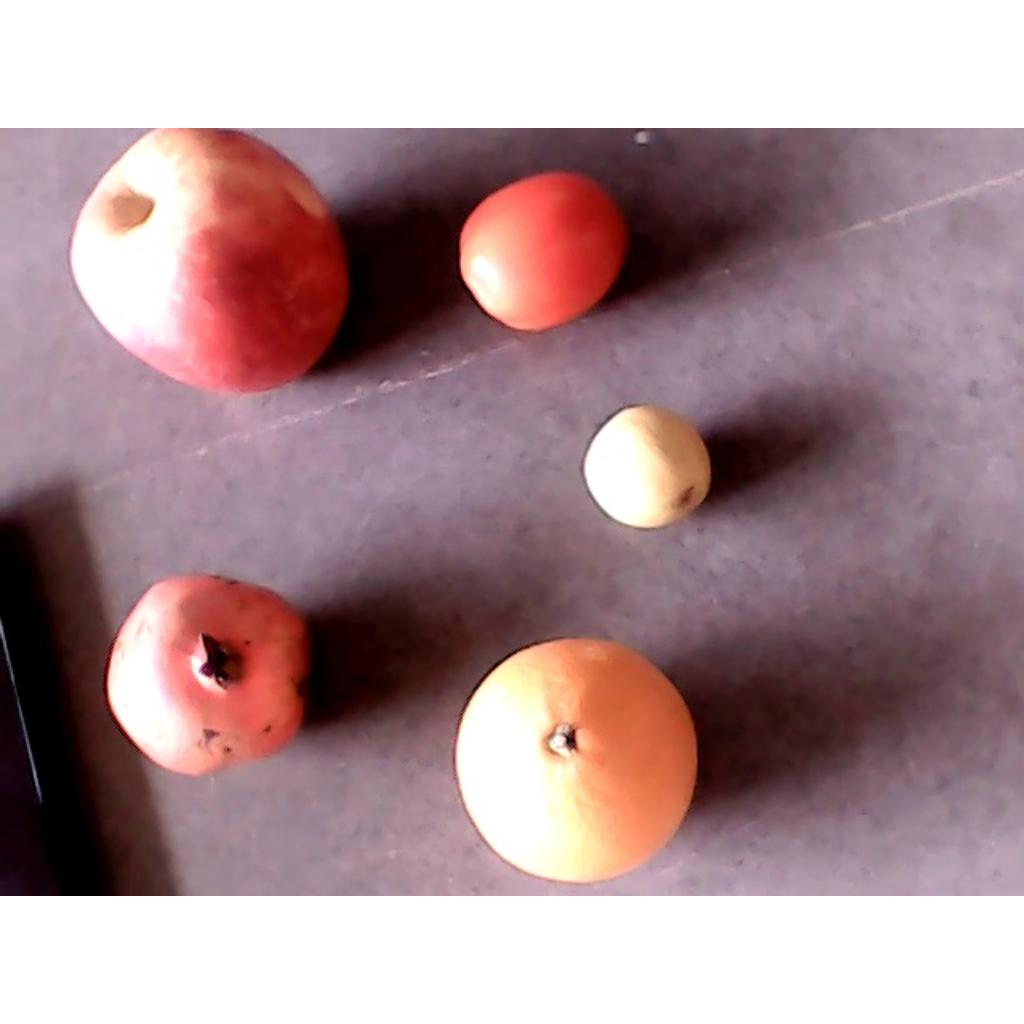apple: (71, 128, 349, 394)
lemon: (582, 404, 712, 528)
orange: (456, 637, 698, 884)
pomegranate: (106, 576, 309, 776)
tomato: (460, 174, 625, 332)
